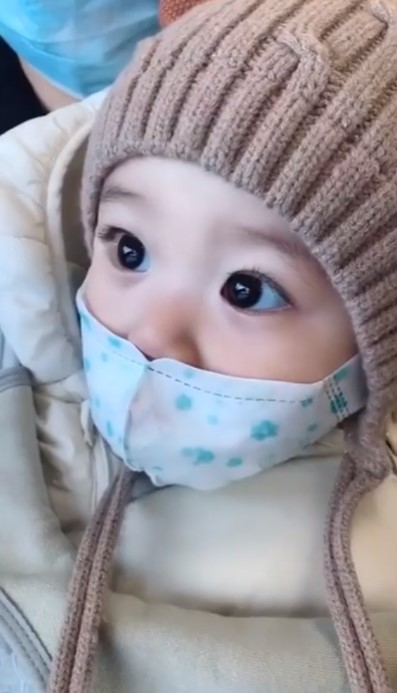face_with_mask: (44, 0, 397, 522)
